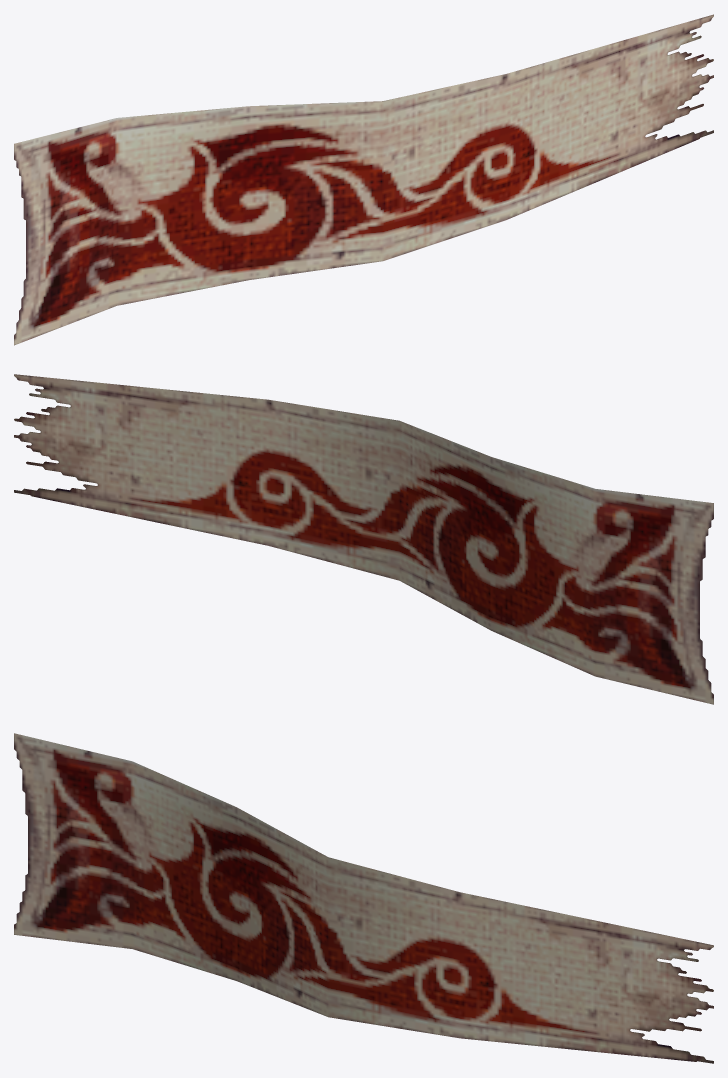
File: Flag2.obj
The picture shows the model from 3 angles, top to bottom: view 1: azimuth 30°, elevation 25°; view 2: azimuth 150°, elevation 25°; view 3: azimuth 330°, elevation 25°; orthographic projection.
Bounding box in the file's own units: 119 × 32.87 × 10.35.
Materials: 1 (1 with a texture image).
